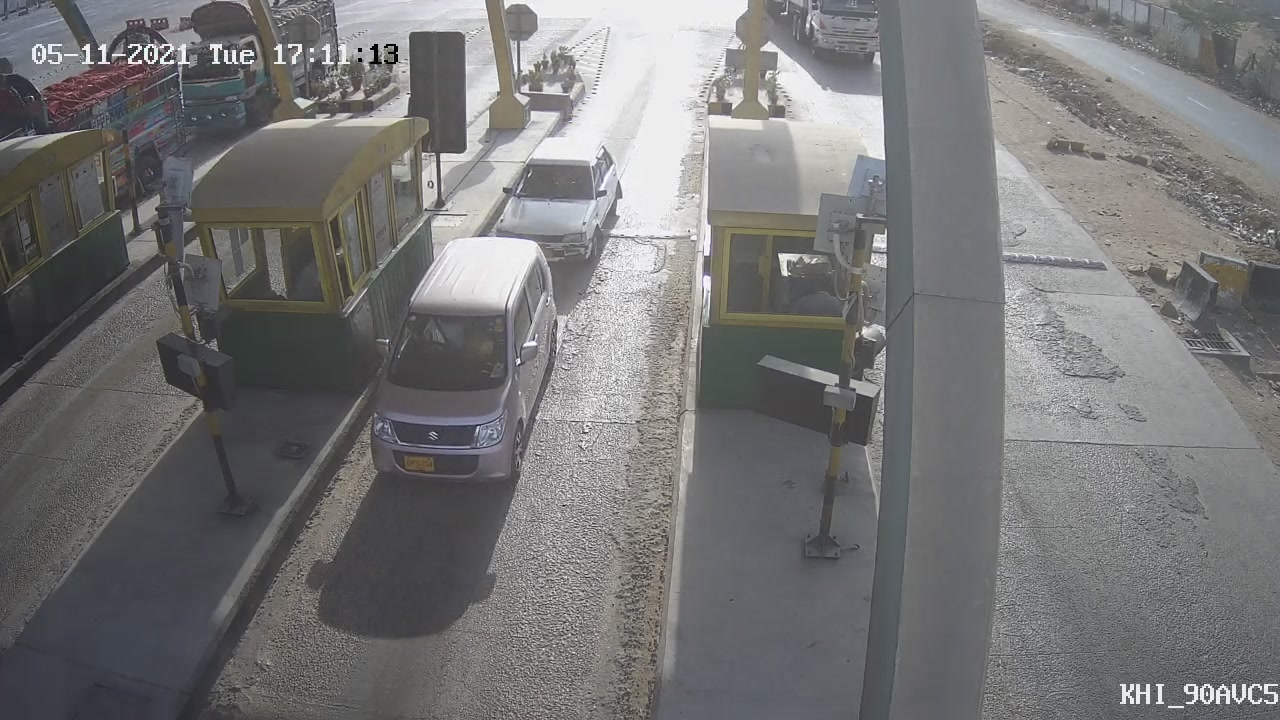F1: (344, 218, 581, 500), (479, 118, 638, 290)
